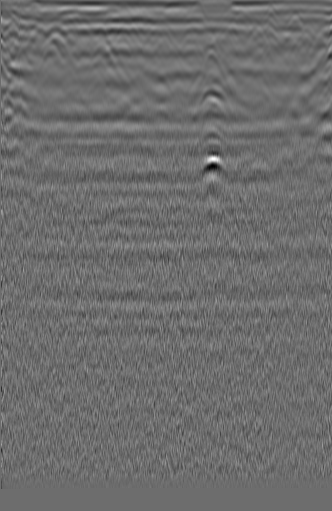가스: (190, 44, 233, 96)
상수: (3, 16, 30, 53)
오수: (277, 11, 307, 40)
우수: (140, 21, 179, 56)
